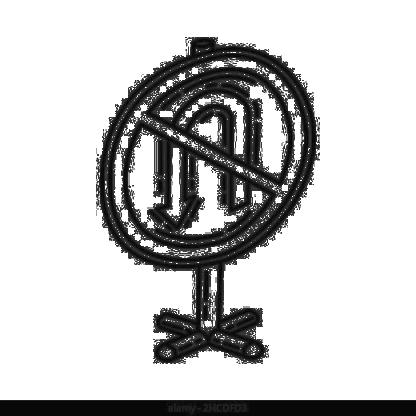No U-turn: (98, 48, 316, 270)
